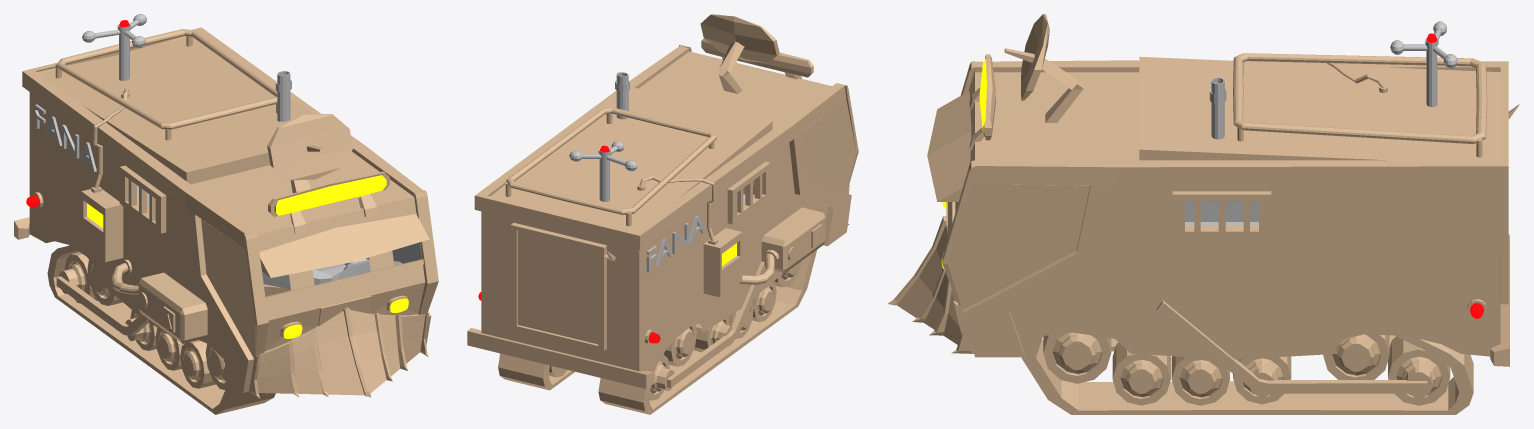
The model's file is FANACRUISER_V2.fbx.
The picture shows the model from 3 angles, left to right: view 1: azimuth 30°, elevation 25°; view 2: azimuth 150°, elevation 25°; view 3: azimuth 270°, elevation 25°; orthographic projection. The views are drawn at different scales.
Visible parts, largest first — view 1: ExteriorBox, Wheels, BoxNStuff, InteriorBox, Anemometer, FanaText, Exhaust; view 2: ExteriorBox, Wheels, Door, BoxNStuff, Anemometer, FanaText, Exhaust; view 3: ExteriorBox, Wheels, Anemometer, InteriorBox, Door, Exhaust.
Boxes of the visible parts, x1=… form: ExteriorBox: x1=14, y1=27, x2=438, y2=398; Wheels: x1=47, y1=245, x2=275, y2=414; BoxNStuff: x1=81, y1=88, x2=207, y2=343; InteriorBox: x1=137, y1=185, x2=421, y2=297; Anemometer: x1=82, y1=14, x2=146, y2=80; FanaText: x1=35, y1=104, x2=96, y2=171; Exhaust: x1=275, y1=71, x2=291, y2=121; ExteriorBox: x1=467, y1=14, x2=858, y2=388; Wheels: x1=498, y1=250, x2=816, y2=414; Door: x1=510, y1=223, x2=615, y2=350; BoxNStuff: x1=637, y1=176, x2=825, y2=297; Anemometer: x1=569, y1=141, x2=637, y2=201; FanaText: x1=646, y1=215, x2=705, y2=272; Exhaust: x1=615, y1=72, x2=629, y2=119; ExteriorBox: x1=887, y1=14, x2=1509, y2=366; Wheels: x1=1021, y1=300, x2=1473, y2=414; Anemometer: x1=1390, y1=21, x2=1457, y2=107; InteriorBox: x1=1185, y1=201, x2=1258, y2=225; Door: x1=1500, y1=104, x2=1519, y2=304; Exhaust: x1=1209, y1=77, x2=1226, y2=139.
Size of the model in its own units: 521 by 673 by 1116.
